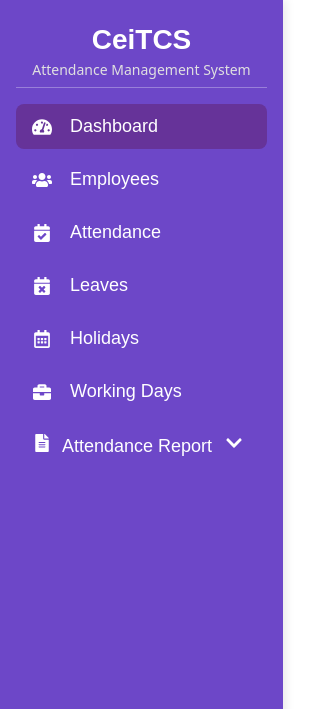
Scenario: Sidebar › Dropdown Menu › closes dropdown when clicking toggle again
Click the text "Attendance Report" at (122,446), box [32, 434, 212, 457]
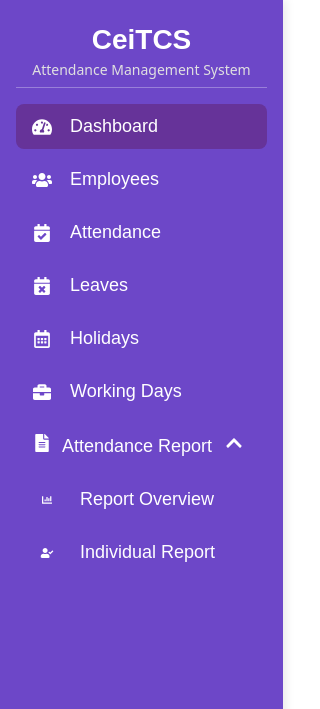
Expected: the list item "Report Overview" is shown, [37, 489, 214, 509]
Click the text "Attendance Report" at (122,446), box [32, 434, 212, 457]
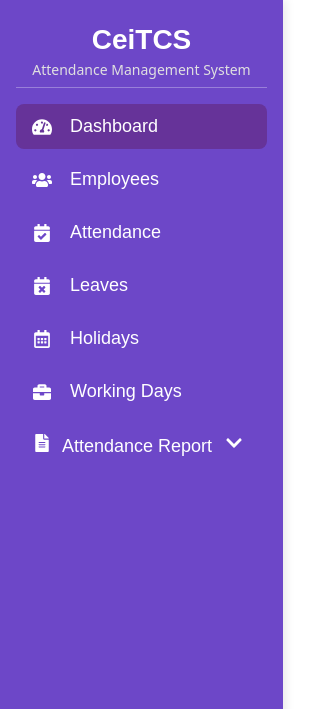
Expected: the list item "Report Overview" is gone
